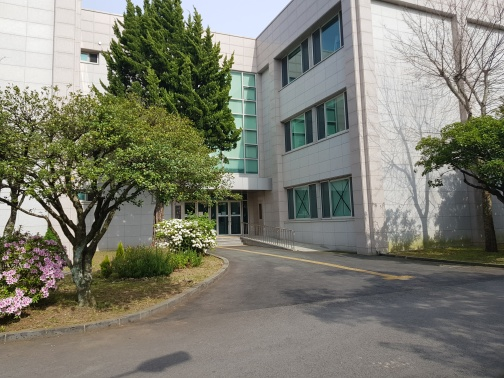College of Nursing: (30, 13, 486, 239)
